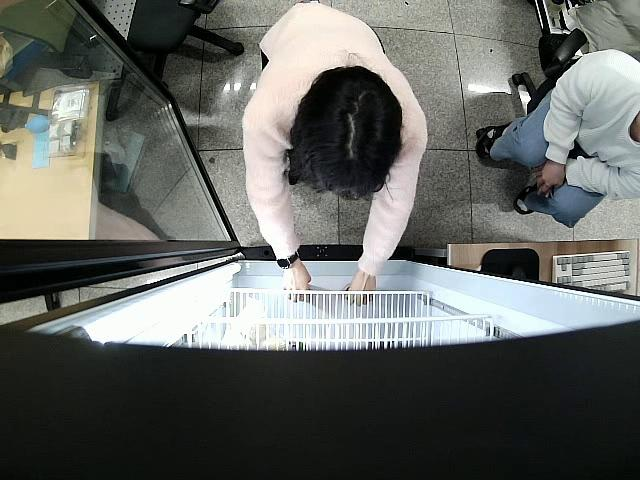00_hand: (282, 268, 311, 303), (344, 277, 376, 308)
